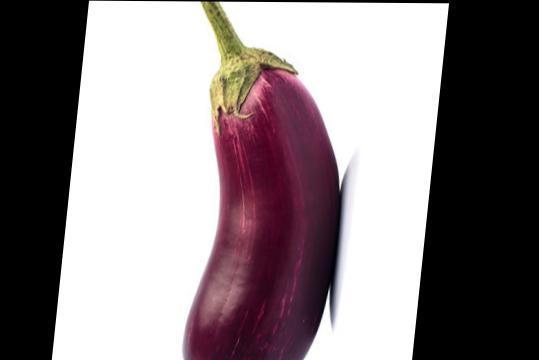eggplant: (151, 16, 372, 359)
